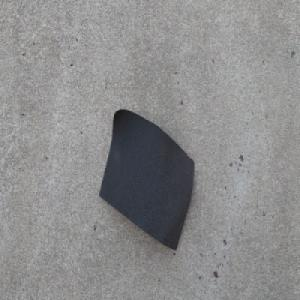PaintChip: (99, 108, 194, 250)
